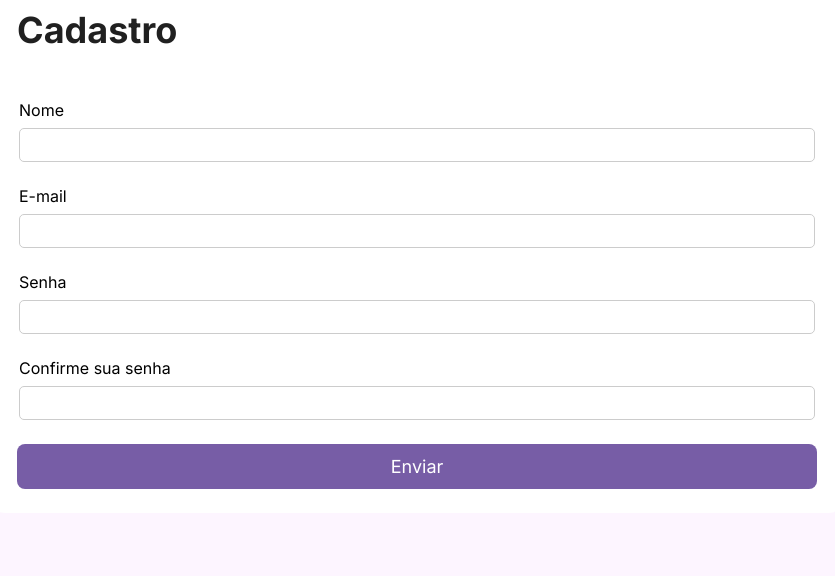
App › simulates invalid form submission
Type "Luffy" into the field labelled "Nome" at (417,145), box [19,128,815,162]
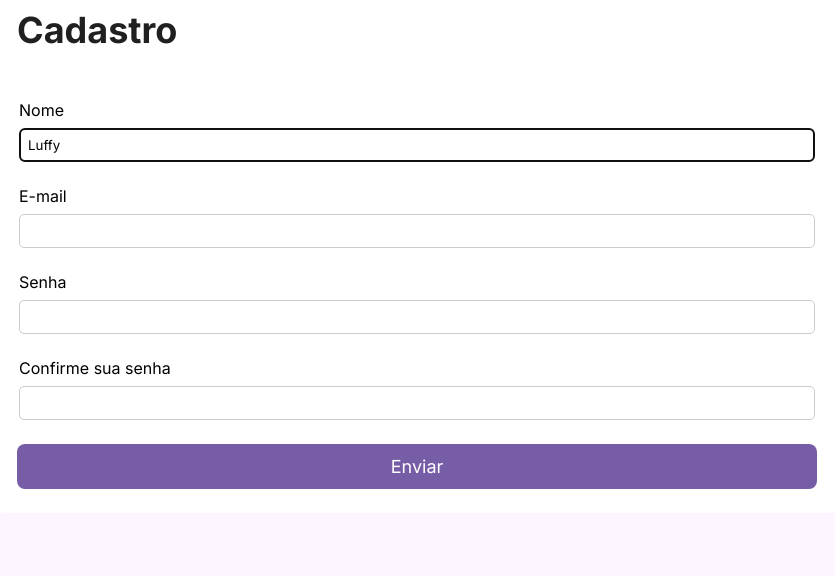
Click the button "Enviar" at (417,466), box [17,444,817,489]
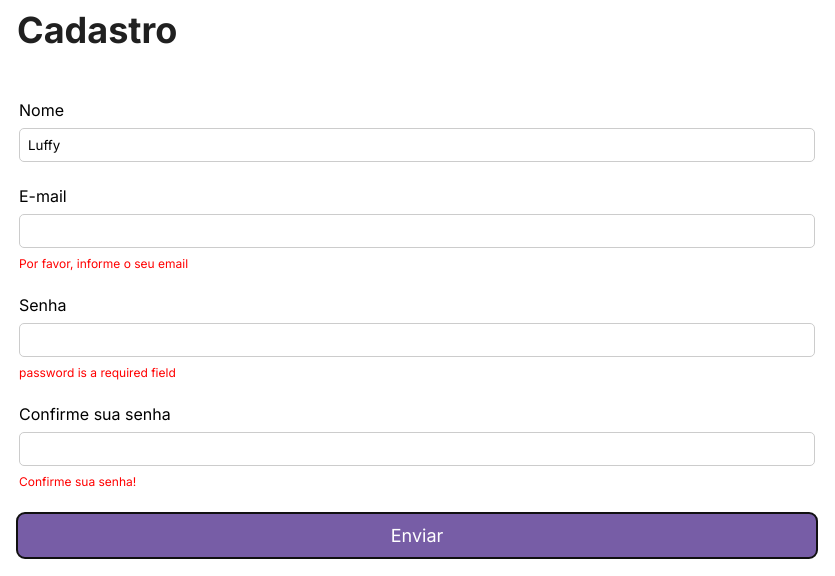
Result: the text "Por favor, informe o seu email" is shown at [19,256,188,271]
